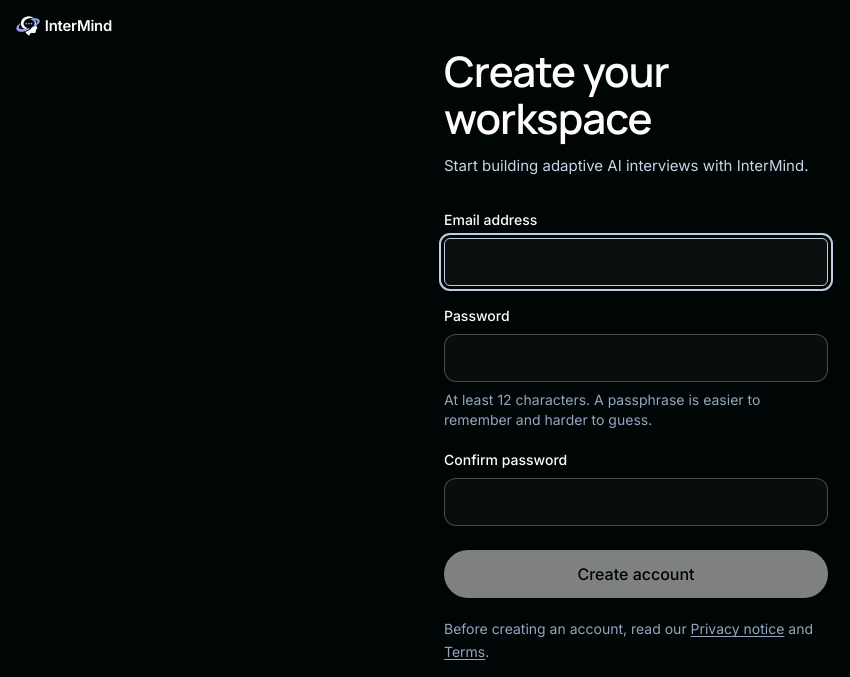
Test: RecruiterSignupPage › requires every field before it will submit
expect the button "Create account" is disabled: met, box [444, 550, 828, 598]
Type "new@example.com" into the field labelled "Email address" at (636, 262), box [444, 238, 828, 286]
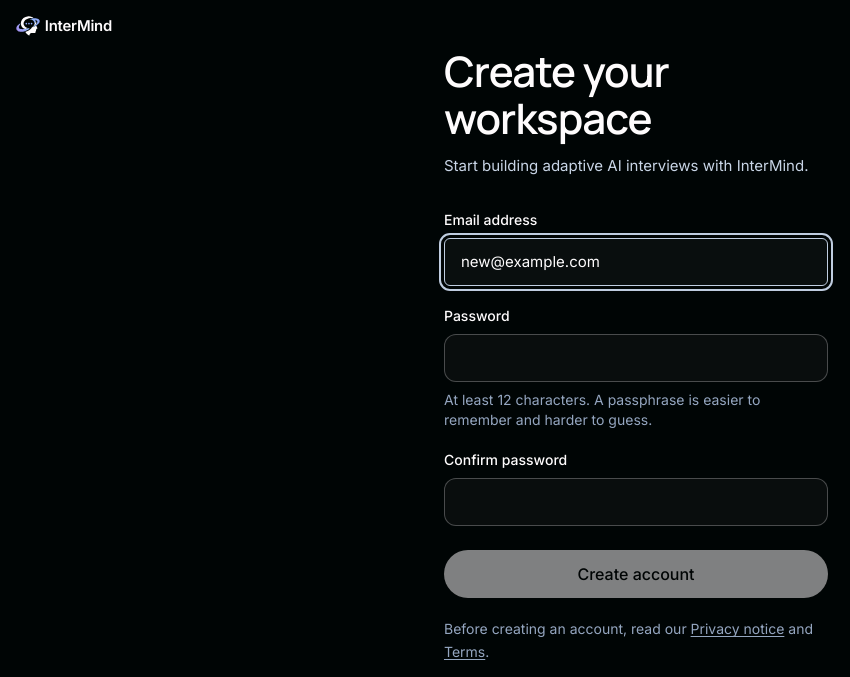
expect the button "Create account" is disabled: met, box [444, 550, 828, 598]
Type "a-long-enough-passphrase" into the password field labelled "Password" at (636, 358), box [444, 334, 828, 382]
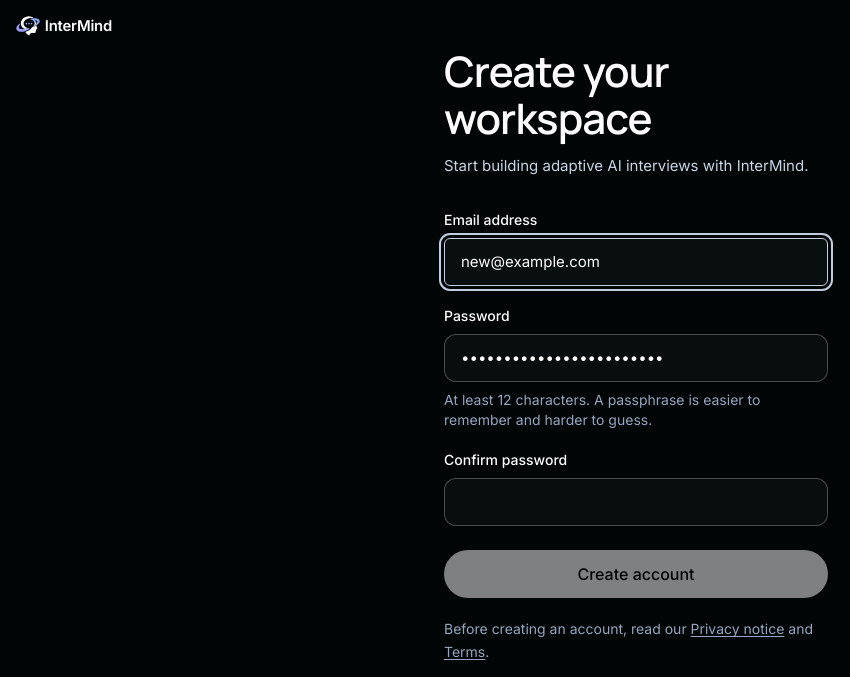
expect the button "Create account" is disabled: met, box [444, 550, 828, 598]
Type "a-long-enough-passphrase" into the password field labelled "Confirm password" at (636, 502), box [444, 478, 828, 526]
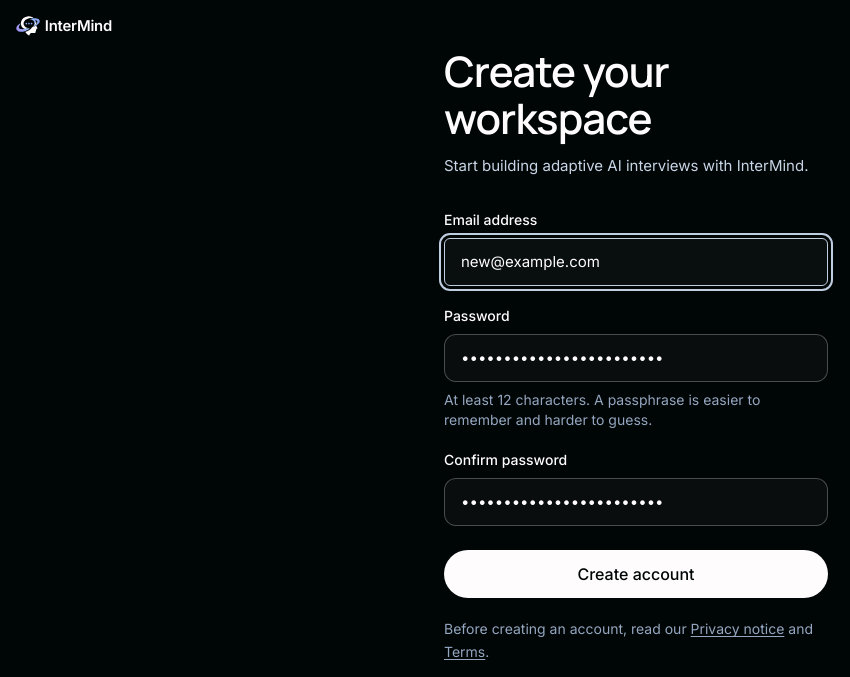
expect the button "Create account" is enabled: met, box [444, 550, 828, 598]
